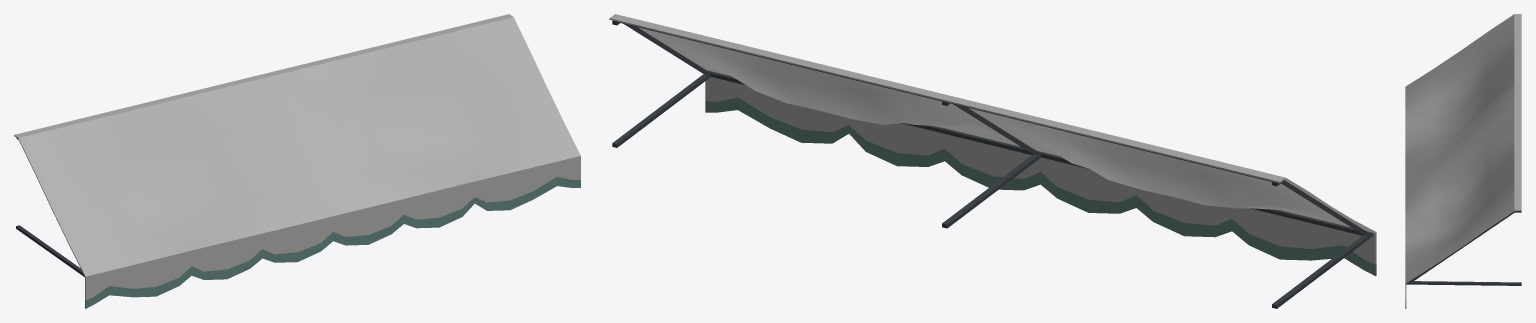
The model's file is SM_BuildingsDecor_35.fbx.
3 views of the same model, side by side, from view 1: azimuth 30°, elevation 25°; view 2: azimuth 150°, elevation 25°; view 3: azimuth 270°, elevation 25° (orthographic). The views are drawn at different scales.
Parts seen in each view (by area): view 1: SM_BuildingsDecor_35; view 2: SM_BuildingsDecor_35; view 3: SM_BuildingsDecor_35.
Boxes of the visible parts, x1=… form: SM_BuildingsDecor_35: x1=14, y1=14, x2=580, y2=308; SM_BuildingsDecor_35: x1=609, y1=14, x2=1376, y2=308; SM_BuildingsDecor_35: x1=1405, y1=14, x2=1521, y2=308.
Bounding box in the file's own units: 5 × 1.22 × 1.25.
